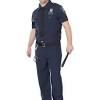uniform: (28, 5, 66, 98)
